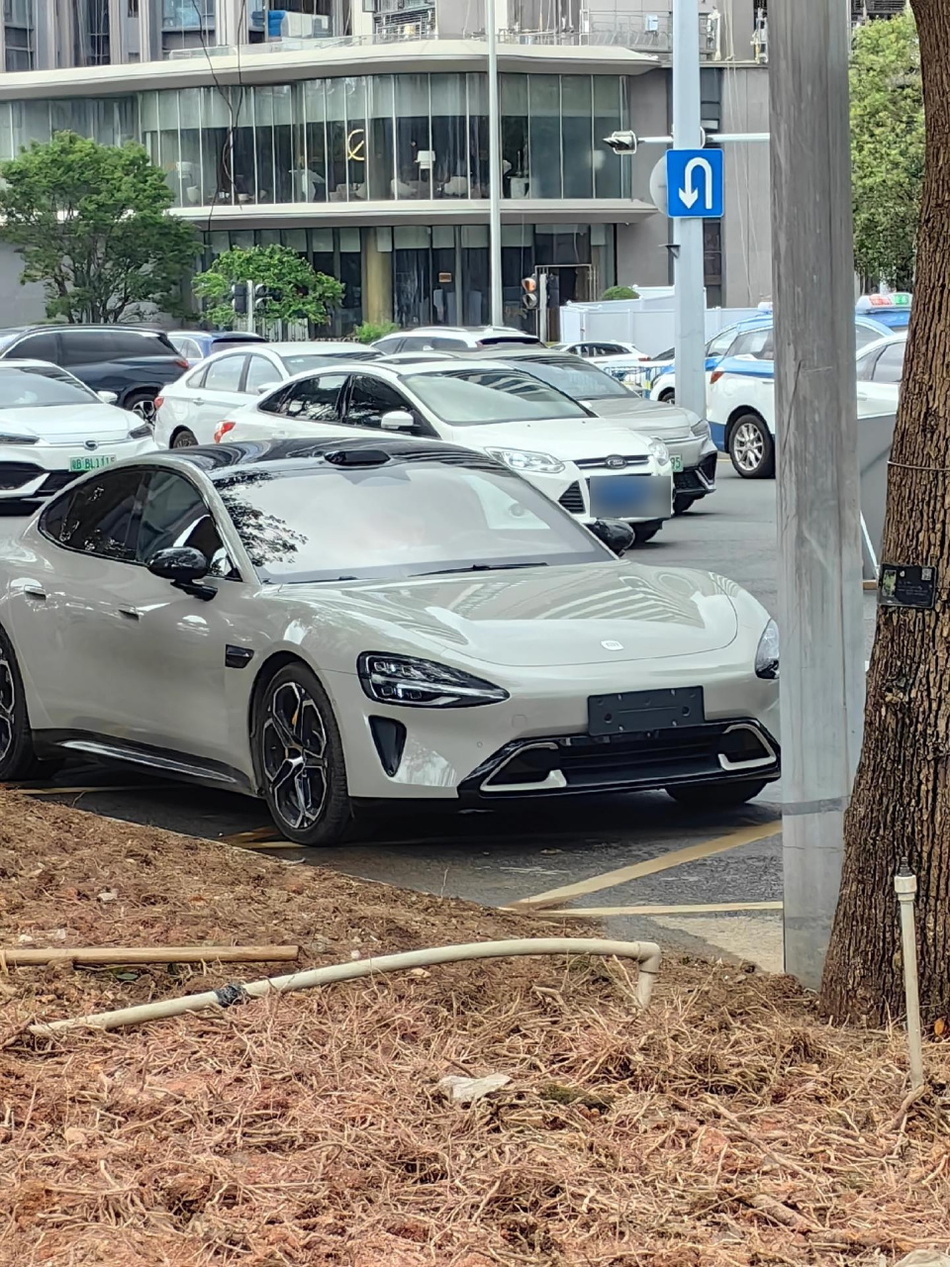other: (209, 362, 680, 541), (0, 368, 160, 491)
su7: (2, 442, 801, 834)
